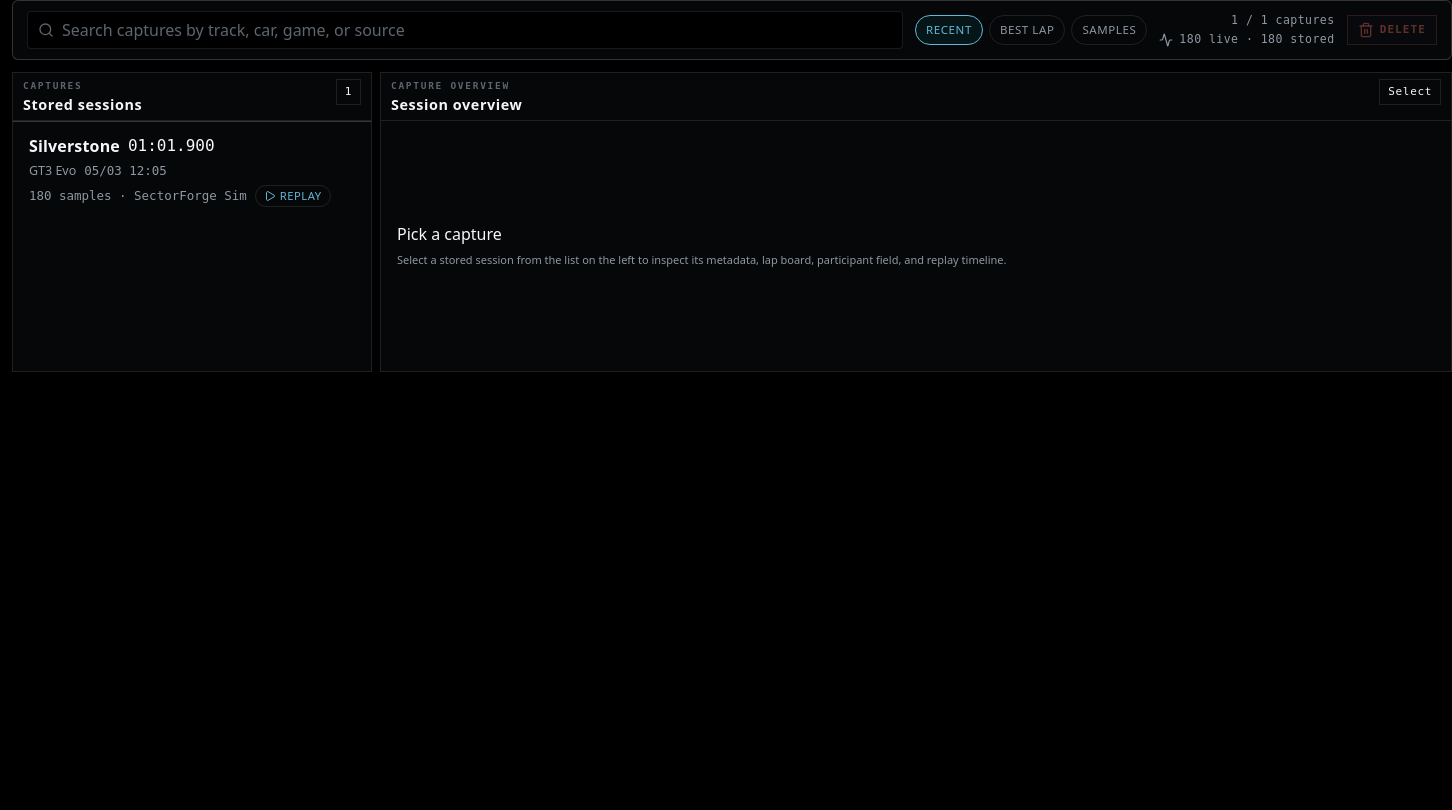
TimingBoard › opens an inline lap comparison with lap metadata and switchable reference
Click the button "Silverstone" below "Capture overview" at (74, 146), box [13,122,371,219]
(page scrolled)
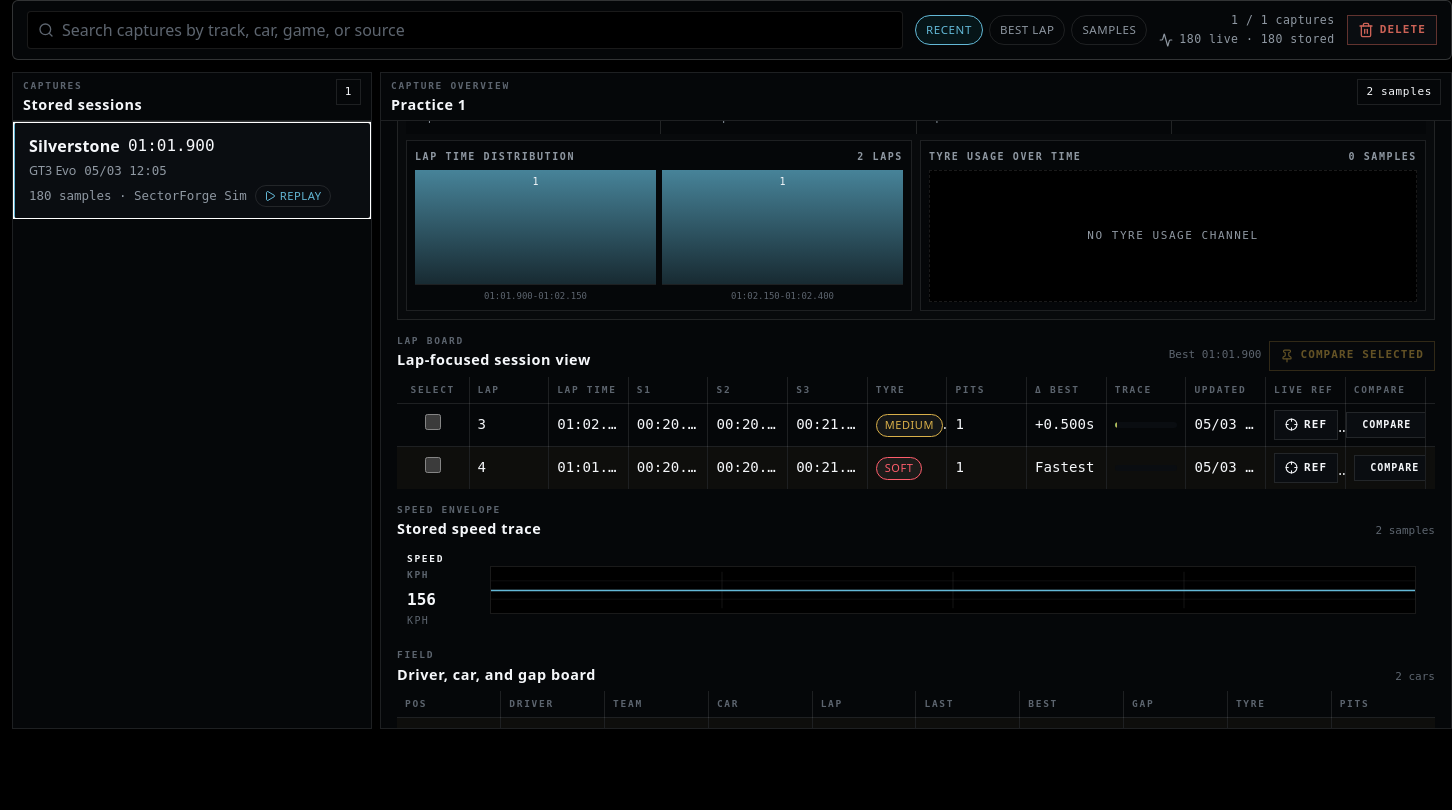
Expected: the heading "Lap-focused session view" below "Lap board" is shown, [397,350,591,369]
Expected: the text "Medium" in the row of "00:20.100" is shown, [885,417,934,432]
Expected: the text "1" in the row of "00:20.100" is shown, [955,416,964,432]
Click the button with aria-label "Compare lap 3 inline" at (1387, 425), box [1346,412,1428,438]
(page scrolled)
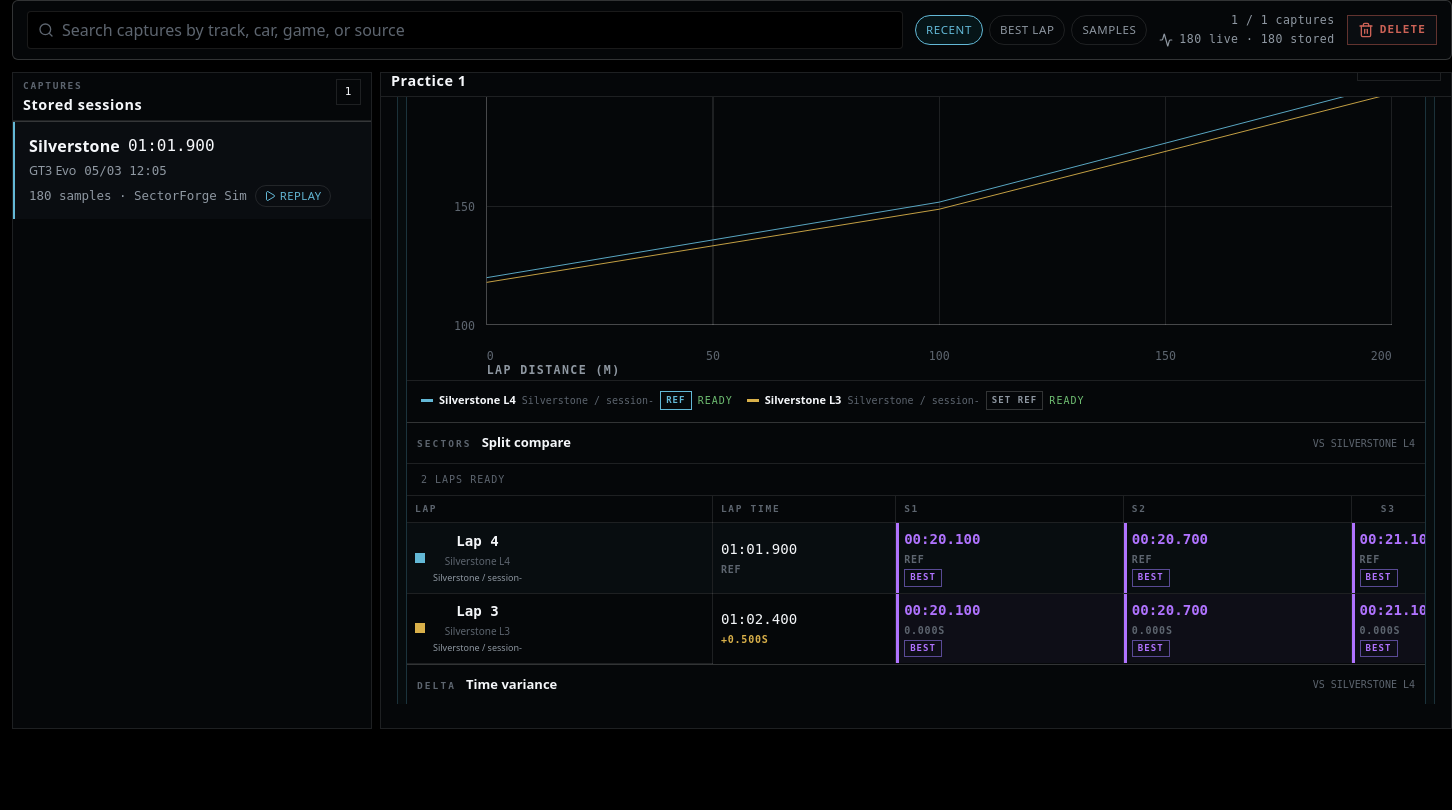
Expected: the picture named "Lap overlay chart for Speed overlay 1" is shown, [417,97,1415,376]
Click the button with aria-label "Set Silverstone L3 as reference lap" at (1015, 401), box [986,391,1043,410]
(page scrolled)
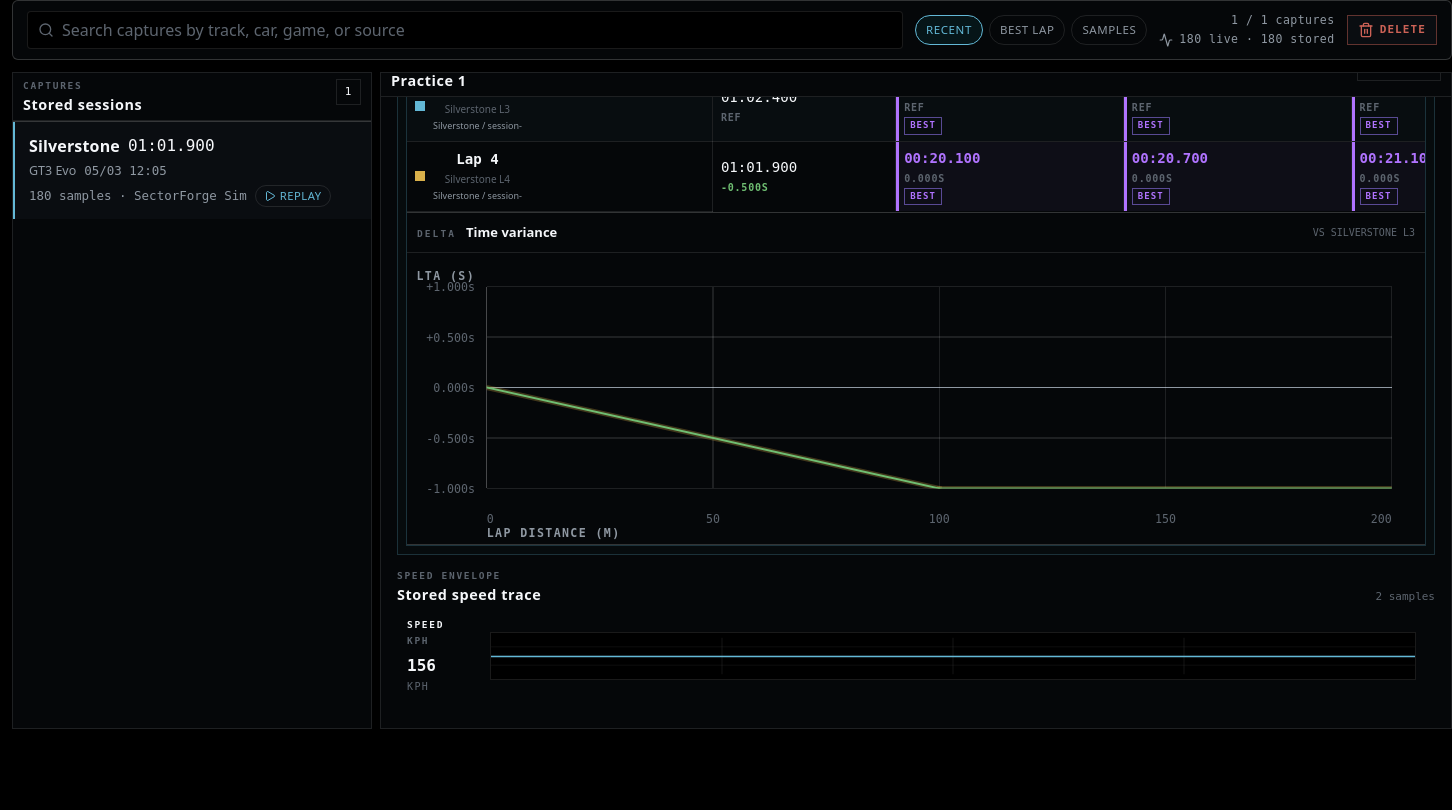
Expected: the picture named "Delta time plot vs Silverstone L3" is shown, [417,261,1415,540]
